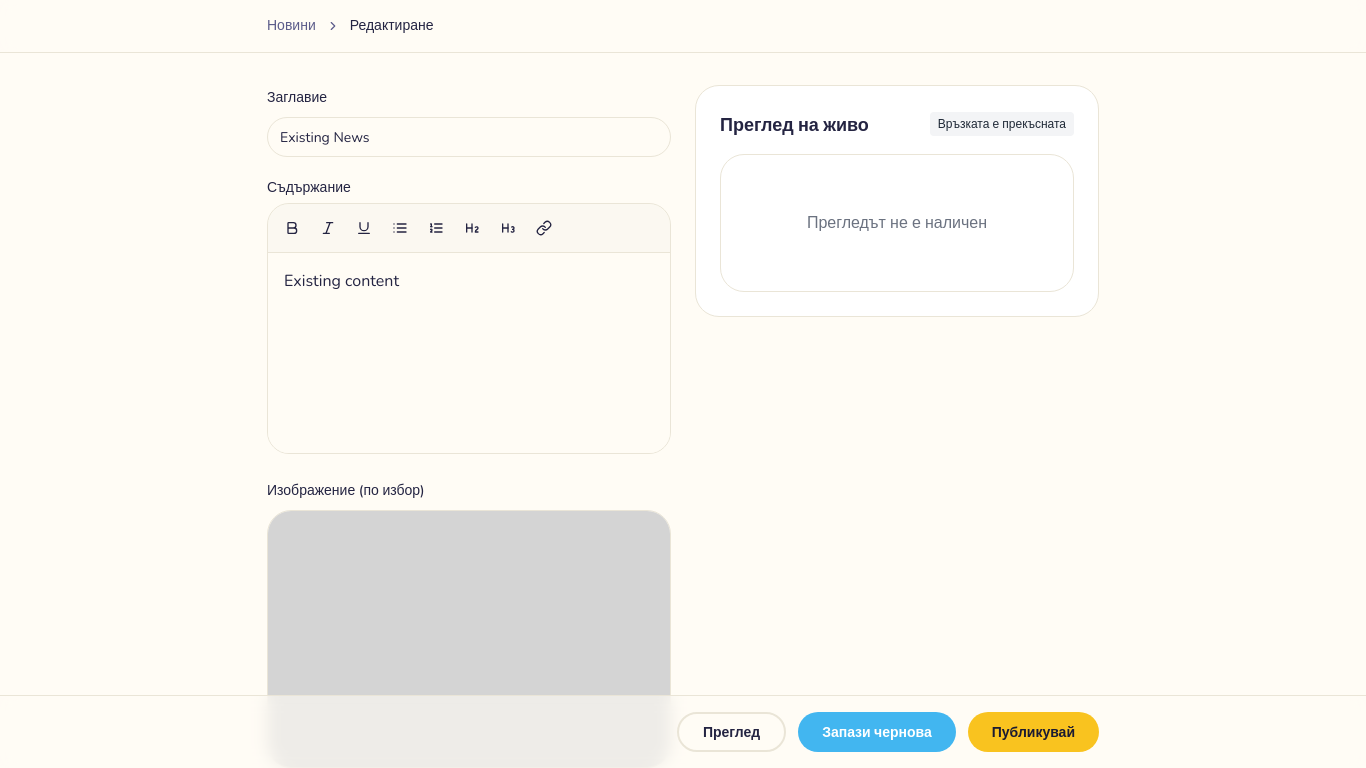
Test case: NewsEdit › Auto-Save Functionality › retries save after error
This screenshot has width=1366, height=768.
Replace the text in the field labelled "Заглавие" with "Retry Test": (469, 137) [267,117,671,157]
Wait 40000 ms
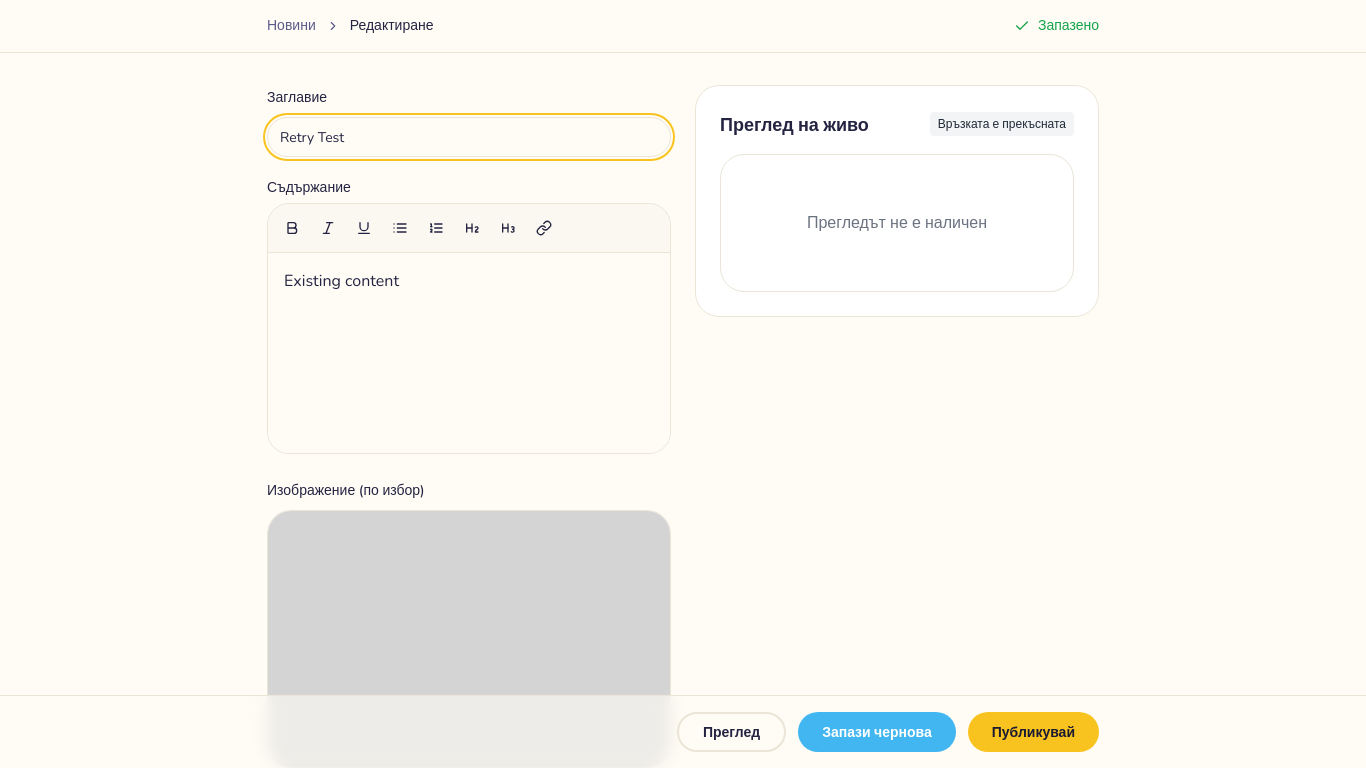
Expected: the text "Запазено" is shown, [1038,16,1099,36]
